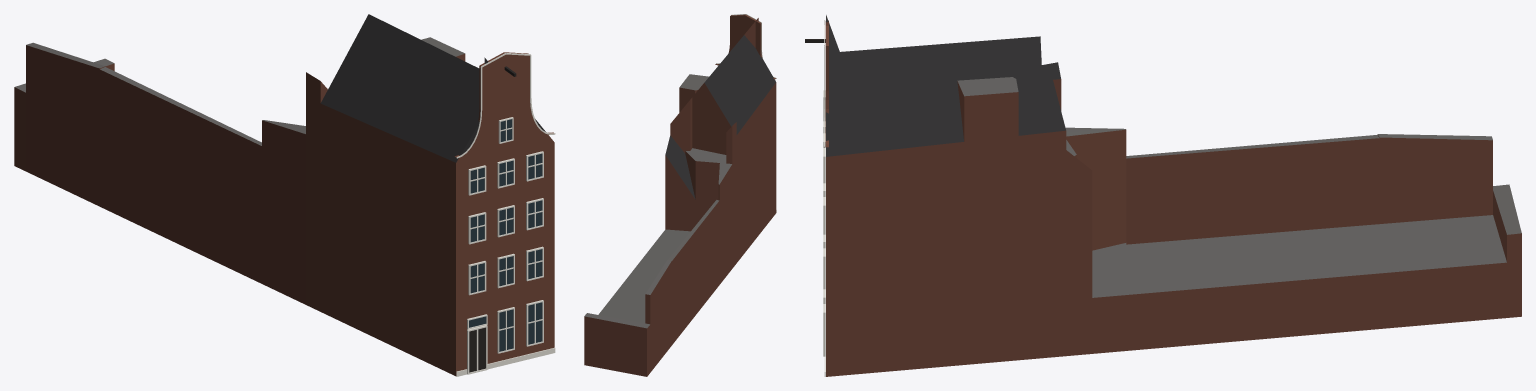
3 views of the same model, side by side, from view 1: azimuth 30°, elevation 25°; view 2: azimuth 150°, elevation 25°; view 3: azimuth 270°, elevation 25° (orthographic). The views are drawn at different scales.
Parts seen in each view (by area): view 1: spec-0363100012171452; view 2: spec-0363100012171452; view 3: spec-0363100012171452.
Boxes of the visible parts, <box> form: spec-0363100012171452: <box>14,14,555,376</box>; spec-0363100012171452: <box>584,14,776,376</box>; spec-0363100012171452: <box>805,15,1521,376</box>.
Size of the model in its own units: 13.71 by 19.08 by 37.87.
